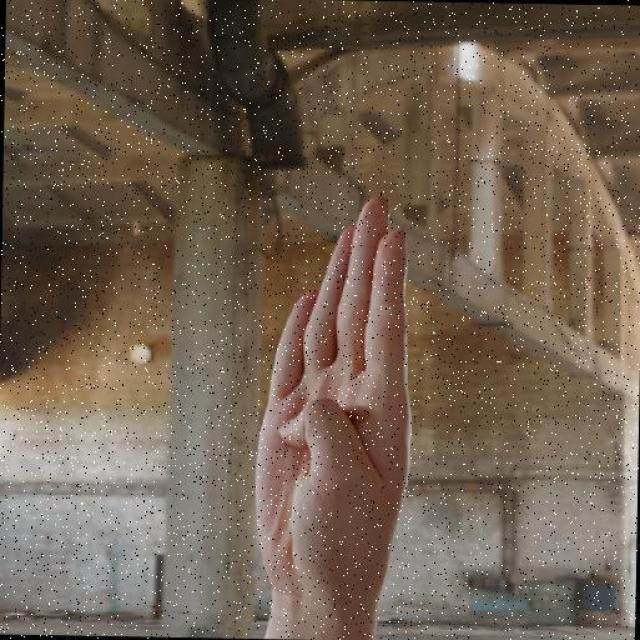B: (249, 188, 417, 602)
